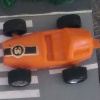naranja: (2, 16, 97, 86)
